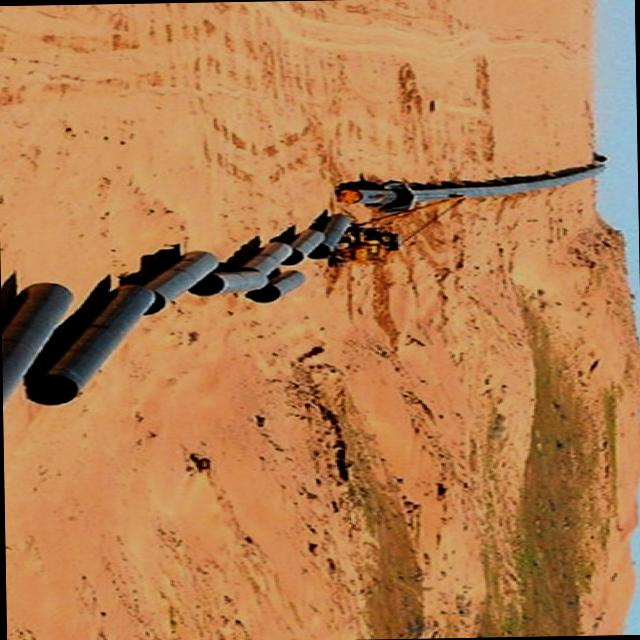gas: (27, 284, 155, 405), (336, 164, 605, 211), (0, 283, 73, 405), (143, 252, 217, 313), (189, 269, 267, 295)
